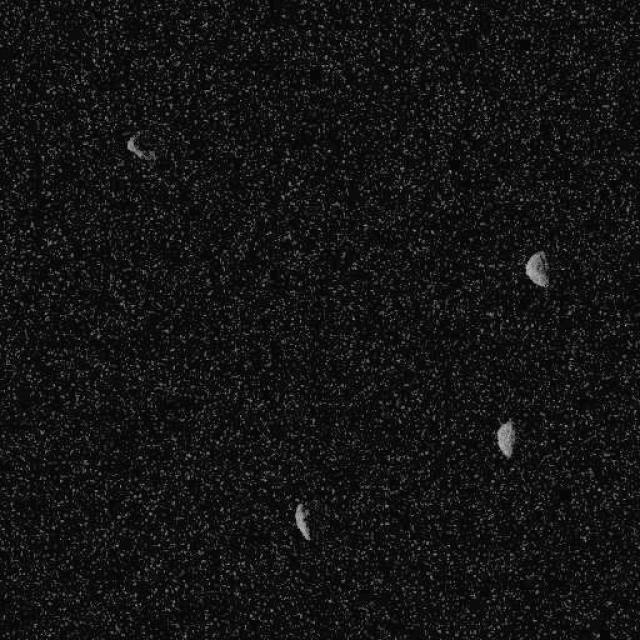D2: (125, 131, 157, 164), (524, 248, 550, 288), (495, 419, 515, 459), (292, 501, 312, 541)
